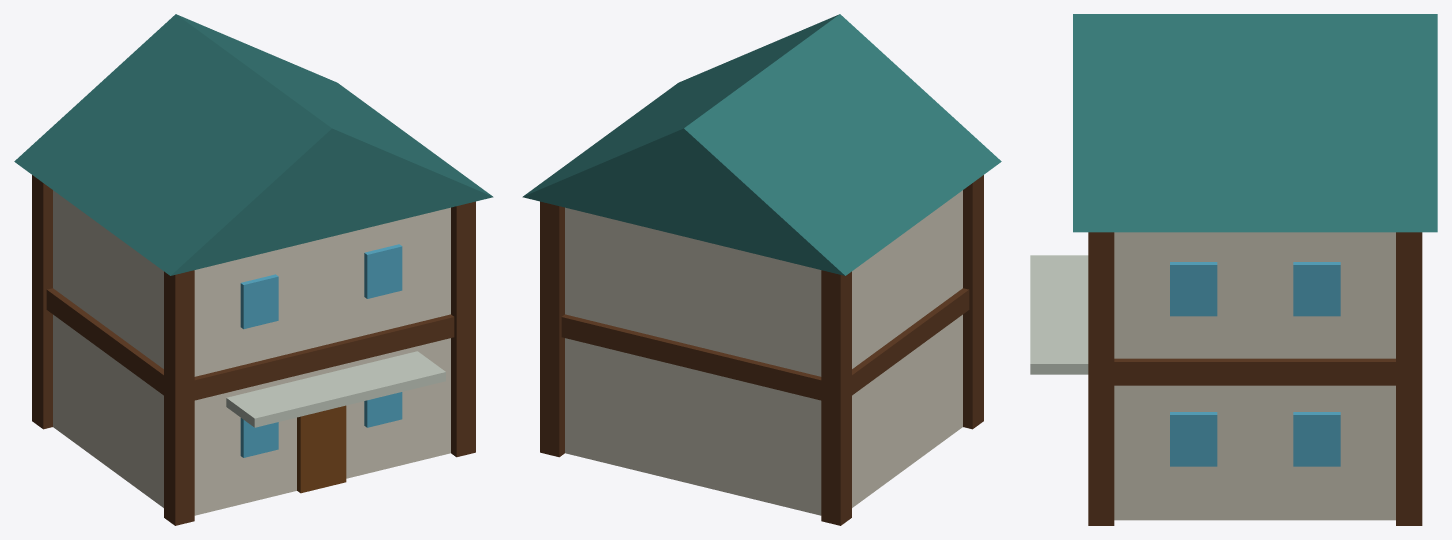
The model's file is house_teal.glb.
3 renders of one model, left to right at view 1: azimuth 30°, elevation 25°; view 2: azimuth 150°, elevation 25°; view 3: azimuth 270°, elevation 25°, orthographic. The views are drawn at different scales.
Visible parts, largest first — view 1: awning; view 2: awning; view 3: awning.
Boxes of the visible parts, left/top/right/bottom form: awning: left=14, top=14, right=493, bottom=525; awning: left=522, top=14, right=1001, bottom=525; awning: left=1030, top=14, right=1437, bottom=525.
Size of the model in its own units: 1.84 by 1.99 by 1.72.
